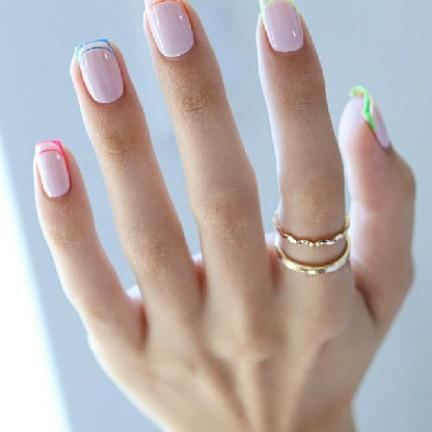Nail: (75, 40, 123, 103), (145, 0, 194, 57), (350, 85, 391, 148), (260, 0, 304, 53), (35, 140, 70, 197)
